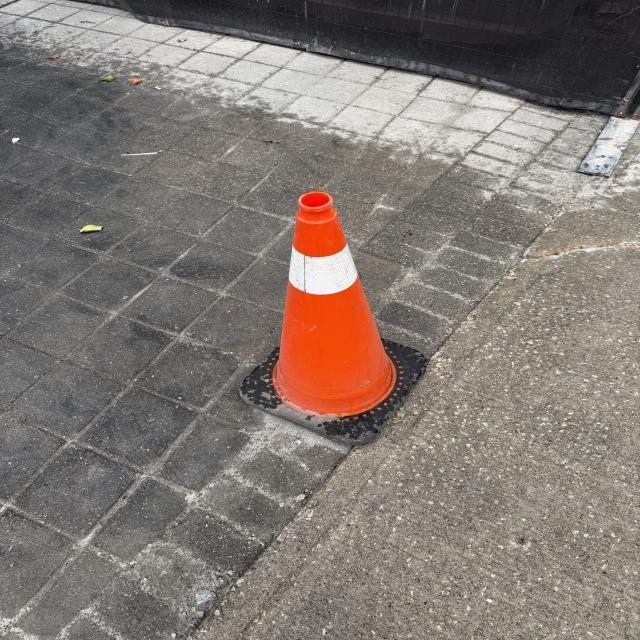Traffic Cone: (242, 191, 427, 445)
